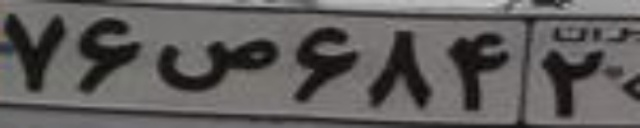0: (617, 71, 639, 102)
2: (537, 48, 613, 118)
4: (447, 31, 514, 111)
6: (74, 17, 144, 94), (294, 25, 359, 103)
7: (2, 11, 65, 92)
8: (365, 29, 431, 108)
saat: (152, 38, 279, 91)
